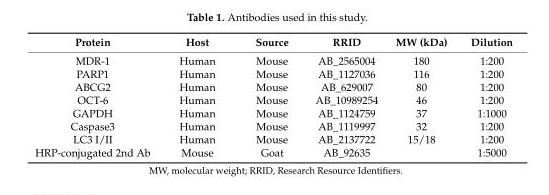table: (34, 35, 512, 158)
table column: (34, 35, 164, 158), (301, 35, 386, 158), (386, 35, 458, 158), (164, 35, 234, 158), (234, 35, 301, 158), (458, 35, 512, 158)
table column header: (34, 35, 512, 51)
table row: (34, 35, 512, 51), (34, 51, 512, 66), (34, 79, 512, 93), (34, 66, 512, 79), (34, 93, 512, 106), (34, 106, 512, 119), (34, 119, 512, 132), (34, 132, 512, 145), (34, 145, 512, 158)
